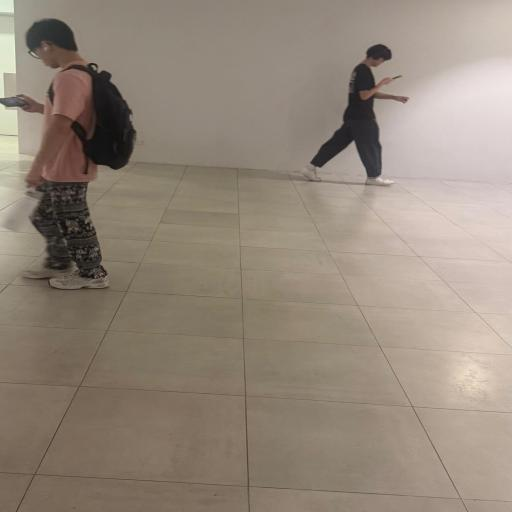person_left: (14, 18, 136, 290)
person_right: (300, 44, 410, 186)
